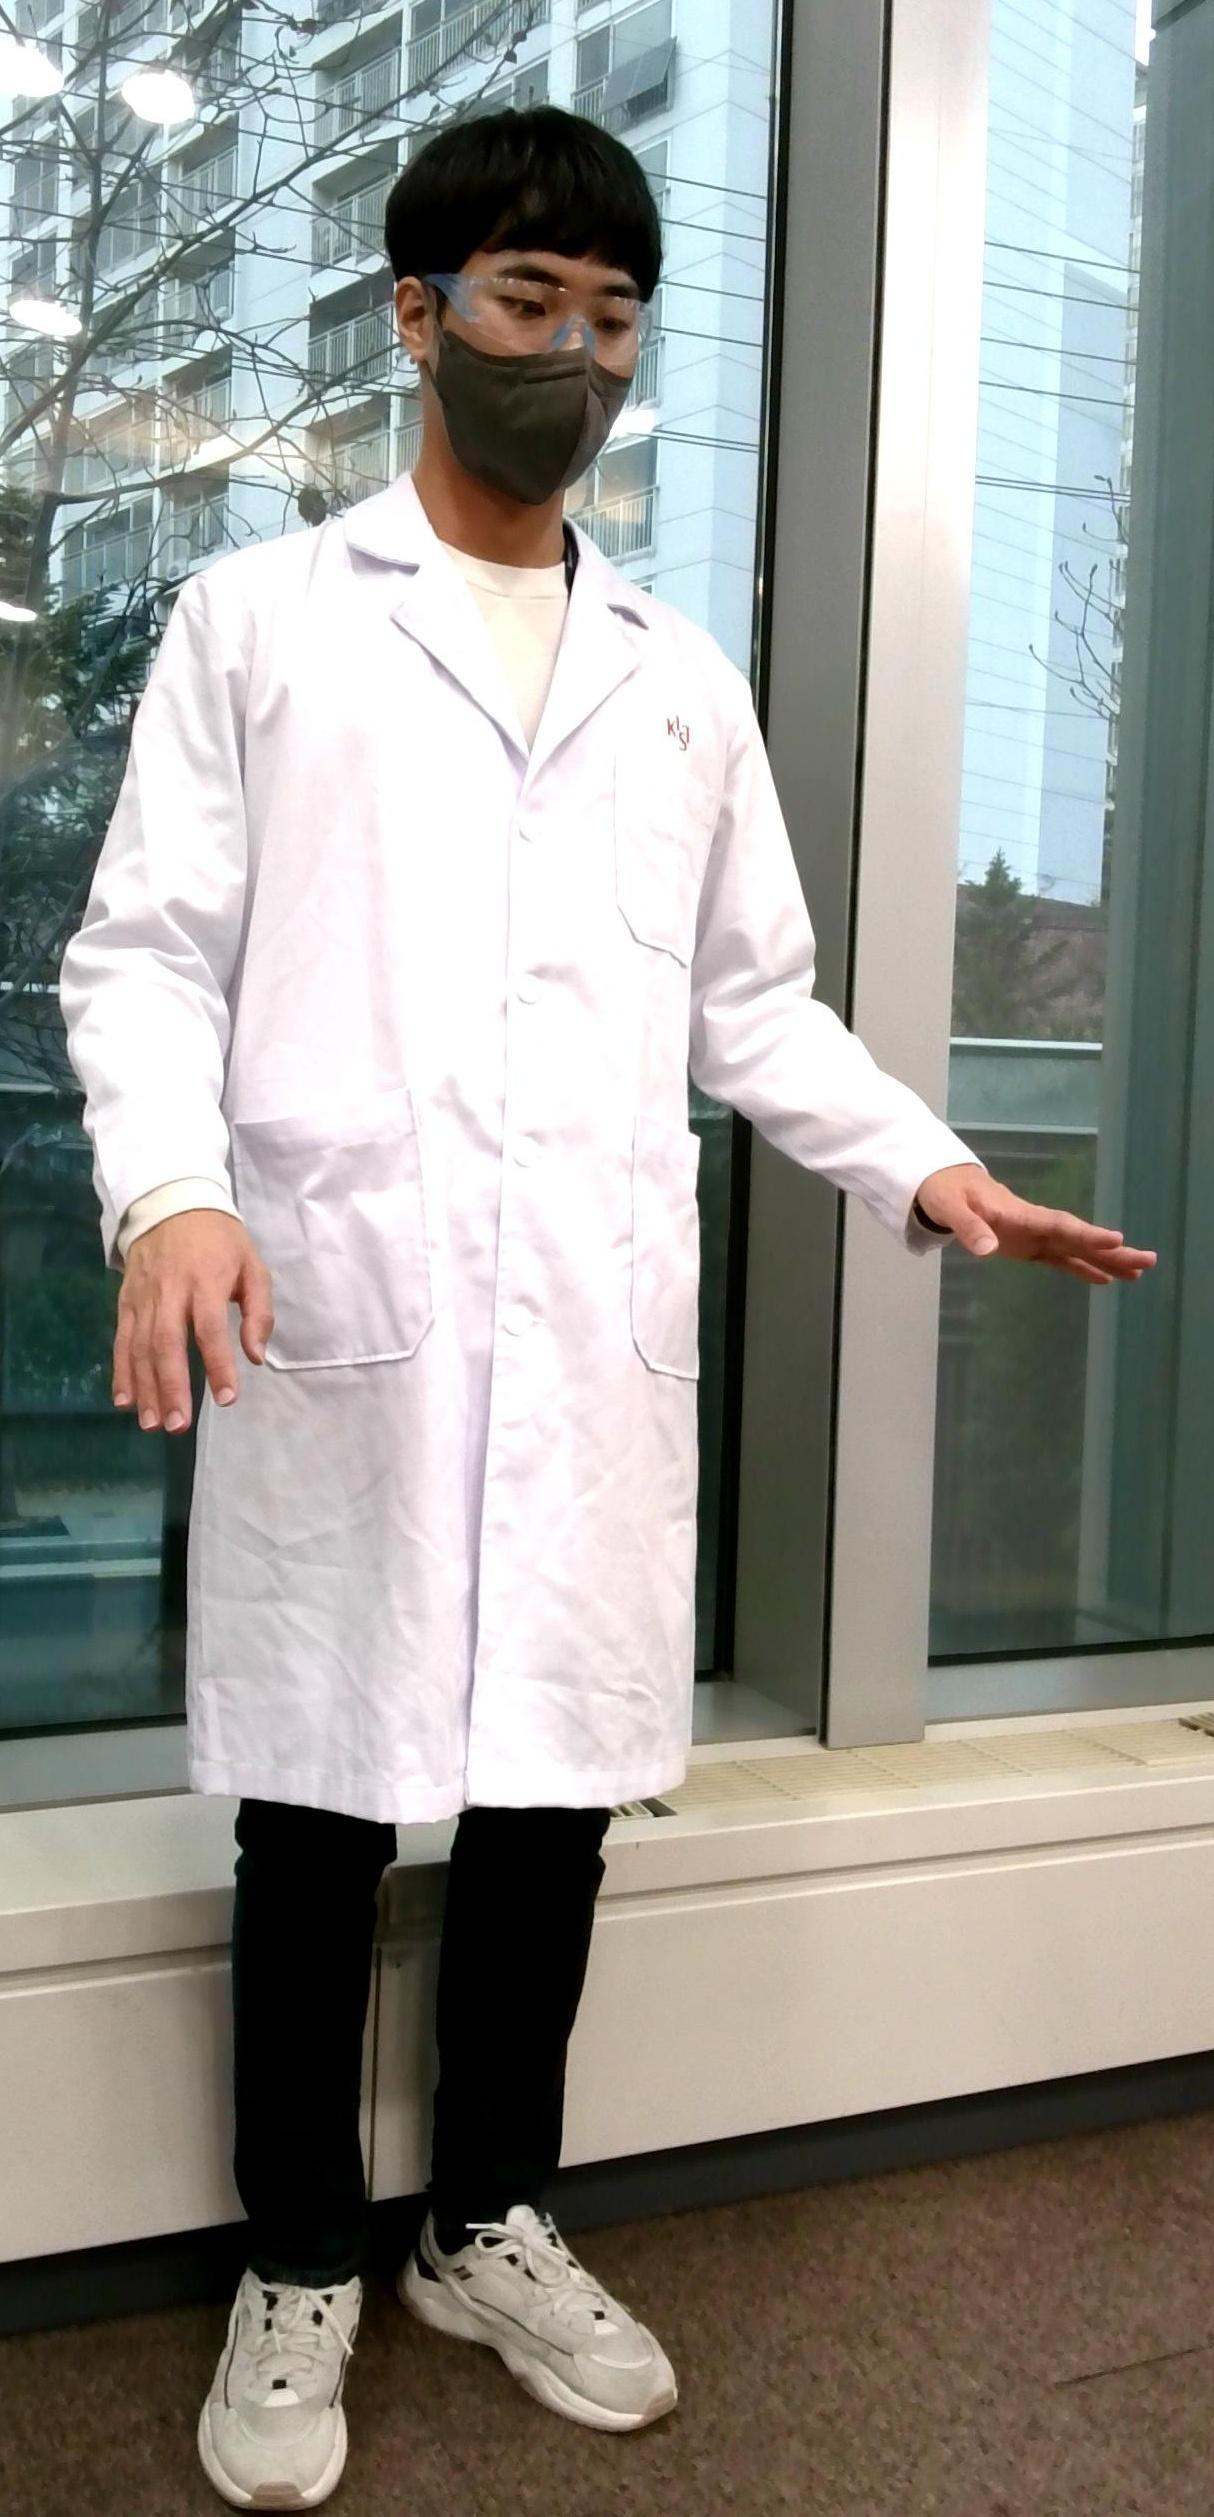lab_coat: (251, 531, 752, 1796)
